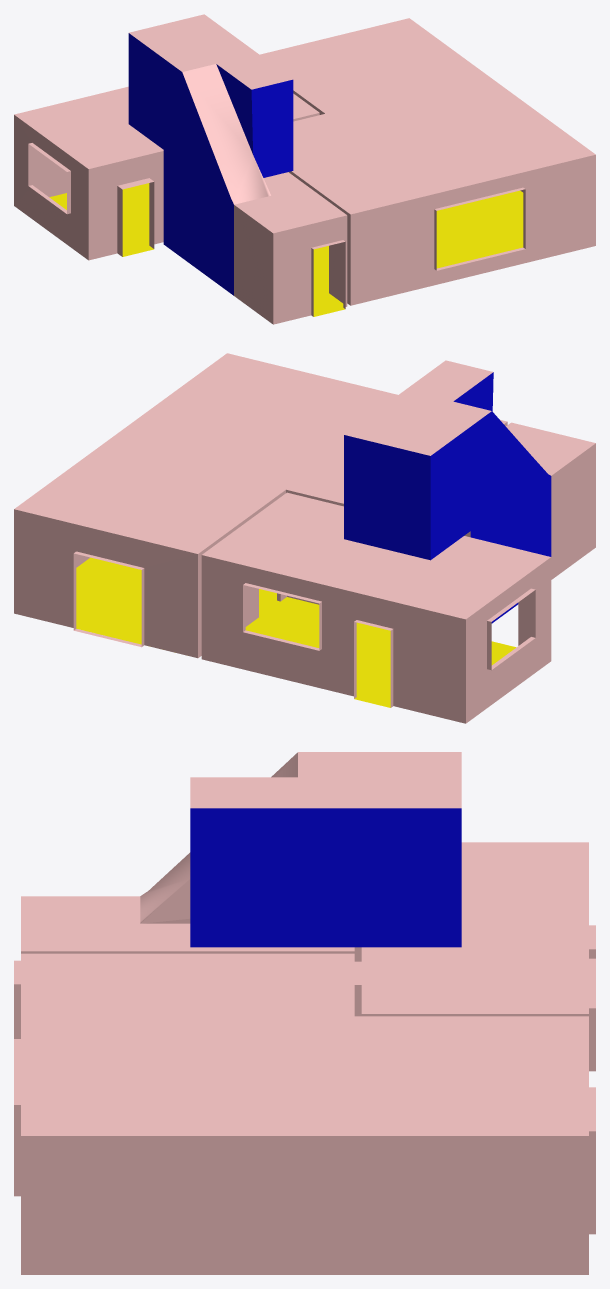
The model's file is House_Amy_Bob_Interior_OPT.FBX.
3 views of the same model, one above another, from view 1: azimuth 30°, elevation 25°; view 2: azimuth 150°, elevation 25°; view 3: azimuth 270°, elevation 25° (orthographic). The views are drawn at different scales.
Parts seen in each view (by area): view 1: House_Large_Interior_Livingroom, House_Large_Interior_Hall, House_Large_Interior_Kitchen; view 2: House_Large_Interior_Livingroom, House_Large_Interior_Kitchen, House_Large_Interior_Hall; view 3: House_Large_Interior_Livingroom, House_Large_Interior_Hall, House_Large_Interior_Kitchen.
Part boxes in pixels (x1,y1,x2,y2): House_Large_Interior_Livingroom: (260, 18, 595, 305); House_Large_Interior_Hall: (128, 14, 347, 324); House_Large_Interior_Kitchen: (14, 86, 319, 260); House_Large_Interior_Livingroom: (14, 353, 507, 658); House_Large_Interior_Kitchen: (201, 492, 551, 723); House_Large_Interior_Hall: (344, 360, 595, 623); House_Large_Interior_Livingroom: (14, 953, 595, 1274); House_Large_Interior_Hall: (14, 752, 461, 1038); House_Large_Interior_Kitchen: (354, 842, 595, 1071).
Bounding box in the file's own units: 1236 × 550 × 1025.
